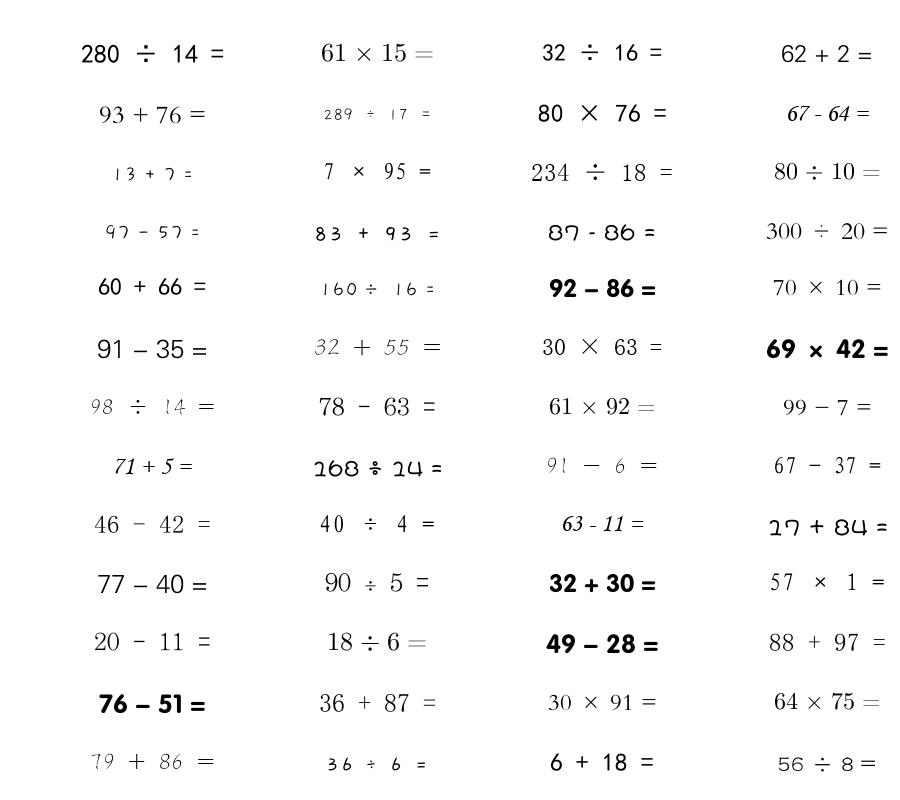MQ: (81, 44, 224, 64), (531, 163, 673, 181), (766, 339, 889, 359), (538, 104, 667, 123), (546, 634, 659, 654), (312, 460, 443, 477), (319, 397, 436, 416), (94, 632, 211, 651), (97, 339, 208, 359), (97, 574, 208, 594), (314, 339, 441, 356), (321, 43, 434, 62), (549, 278, 656, 298), (549, 573, 656, 593), (99, 694, 206, 714), (90, 753, 215, 770), (94, 515, 211, 533), (769, 633, 886, 651), (319, 694, 436, 712), (766, 223, 889, 240), (319, 515, 435, 533), (769, 573, 885, 591), (325, 572, 429, 592), (767, 519, 888, 536), (542, 44, 662, 61), (542, 338, 662, 355), (90, 399, 215, 415), (323, 162, 431, 180), (98, 278, 206, 296), (773, 456, 881, 474), (99, 106, 206, 124), (774, 162, 881, 180), (549, 397, 656, 415), (774, 692, 881, 710), (313, 226, 441, 241), (546, 457, 658, 474), (327, 632, 427, 651), (550, 753, 654, 771), (773, 279, 882, 296), (548, 694, 657, 711), (548, 224, 656, 241), (781, 44, 873, 63), (319, 282, 435, 297), (104, 224, 200, 240), (783, 399, 872, 416), (778, 757, 876, 772), (560, 515, 644, 532), (326, 757, 428, 771), (323, 108, 432, 121), (112, 458, 192, 475), (785, 105, 869, 121), (111, 167, 193, 182)
